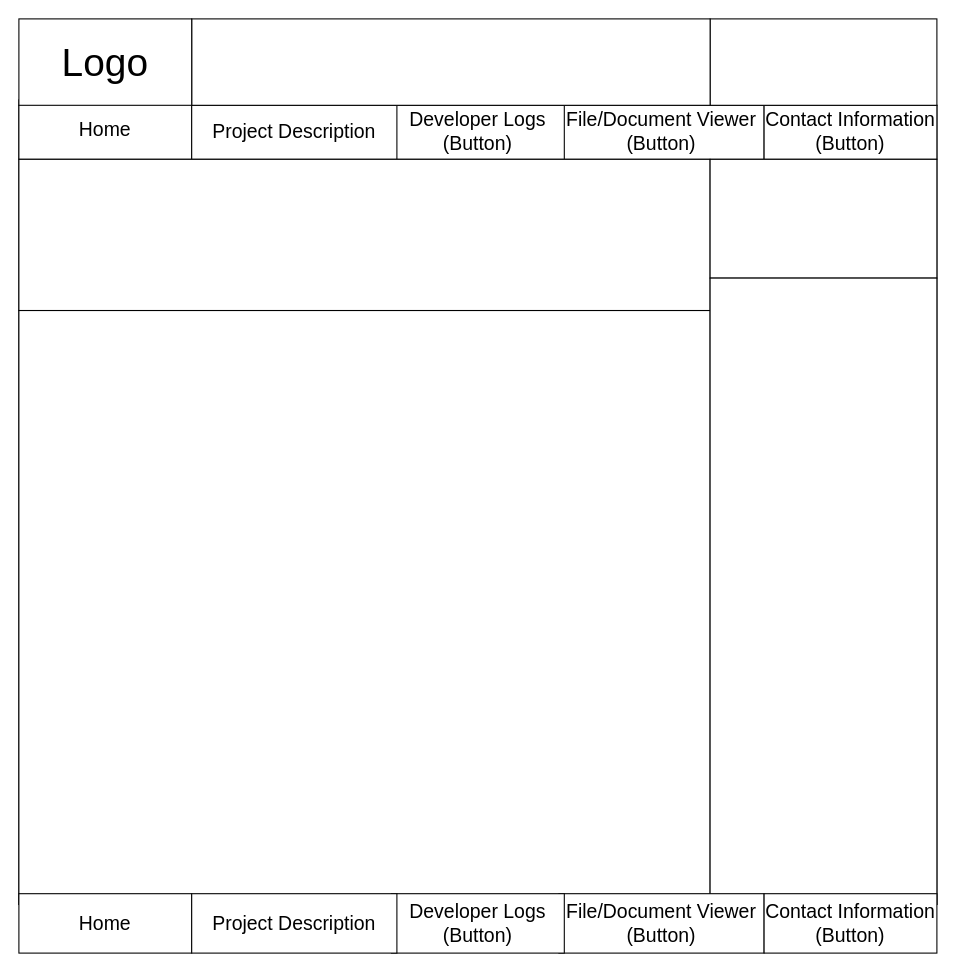
This 956x972 diagram has some shape labels left out. The shapes that lost their labels are listed below. From the top down, each one's box as (x1, y1, x2, y2) in pixels, then its label:
(191, 18, 710, 105): Project (Code Name Insert)
(709, 18, 937, 105): Sign In Button/Logged In As (User)
(18, 158, 710, 310): Project Descption (Heading)
(709, 158, 937, 278): Dev Log Update
(18, 309, 710, 905): Description text
(709, 277, 937, 905): Updated Log List
